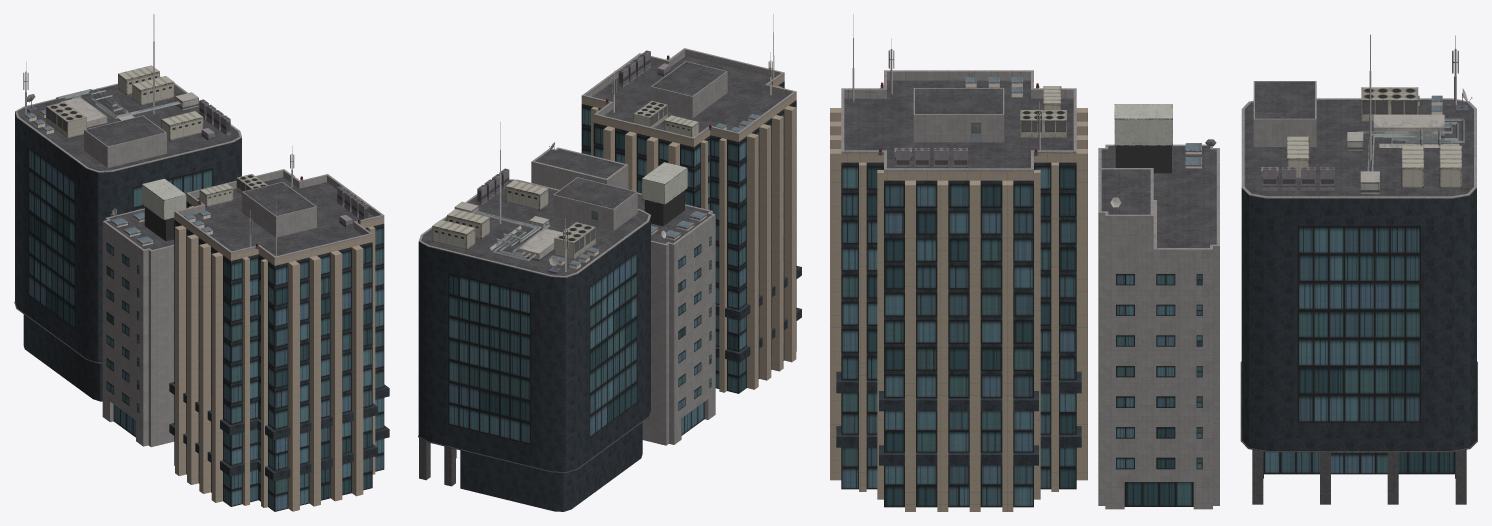
File: buildSetG.FBX
3 renders of one model, left to right at view 1: azimuth 30°, elevation 25°; view 2: azimuth 150°, elevation 25°; view 3: azimuth 270°, elevation 25°, orthographic. The views are drawn at different scales.
Parts seen in each view (by area): view 1: buildSetG; view 2: buildSetG; view 3: buildSetG.
Boxes of the visible parts, <box> form: buildSetG: <box>14,14,389,511</box>; buildSetG: <box>418,14,801,511</box>; buildSetG: <box>830,14,1477,511</box>.
Size of what is drawn, in the model's own units: 913 by 2294 by 1726.
